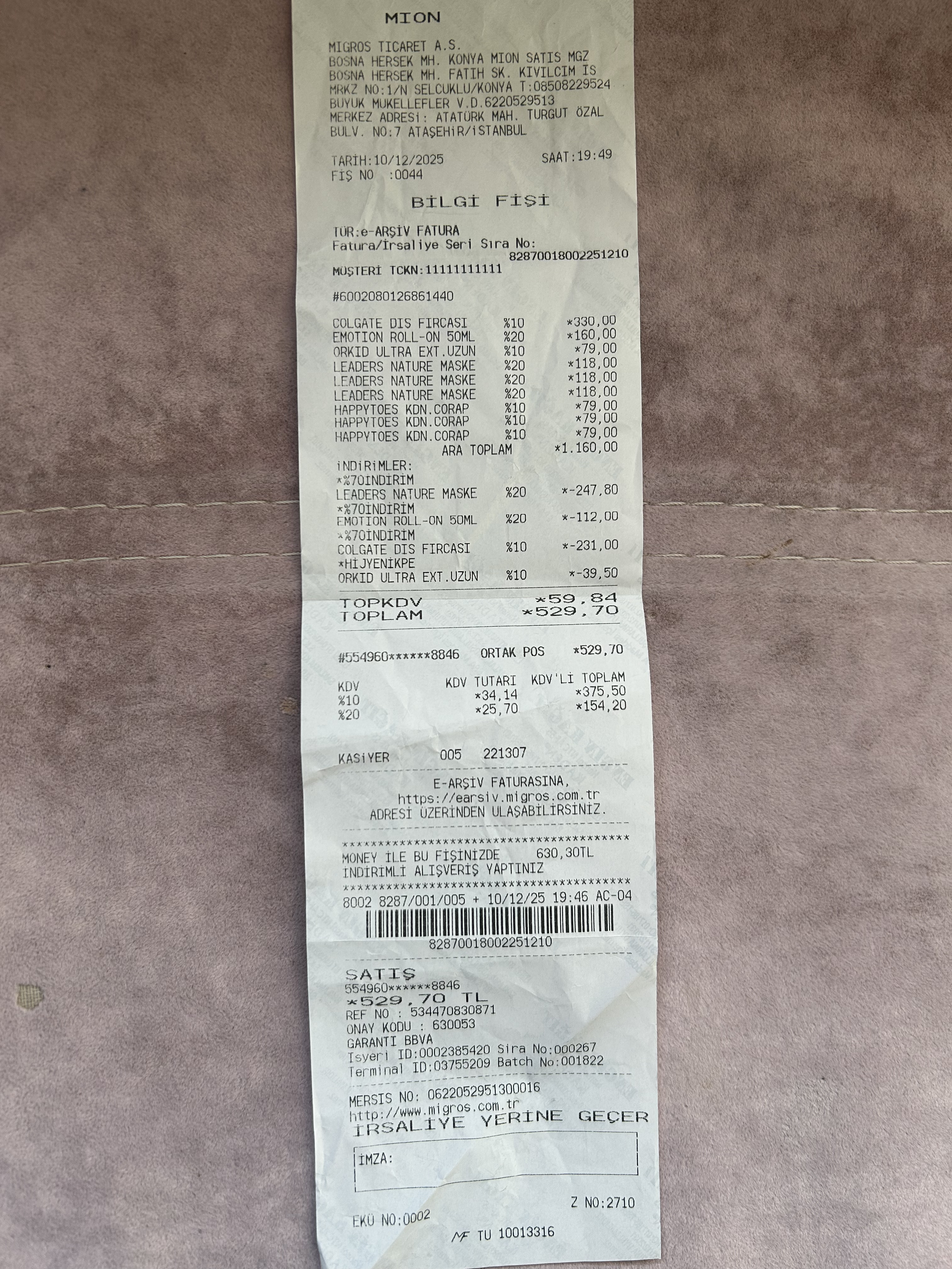date: (371, 150, 450, 169)
price: (531, 602, 621, 620)
workplace: (326, 3, 610, 82)
